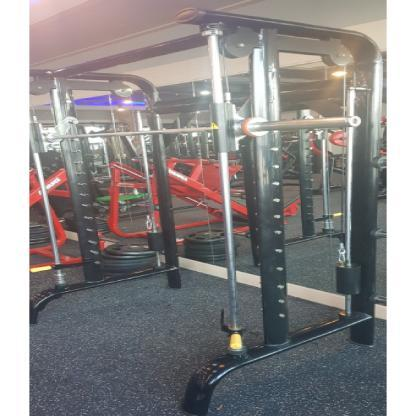smith machine: (31, 8, 383, 416)
